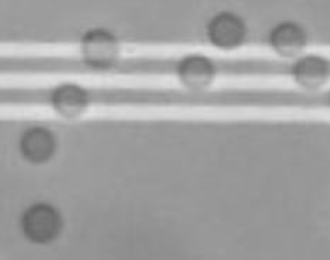cell: (16, 197, 68, 249), (76, 24, 122, 72), (173, 50, 218, 96), (15, 123, 59, 169), (45, 79, 91, 123), (204, 6, 248, 52), (288, 49, 330, 97), (266, 18, 311, 62)
